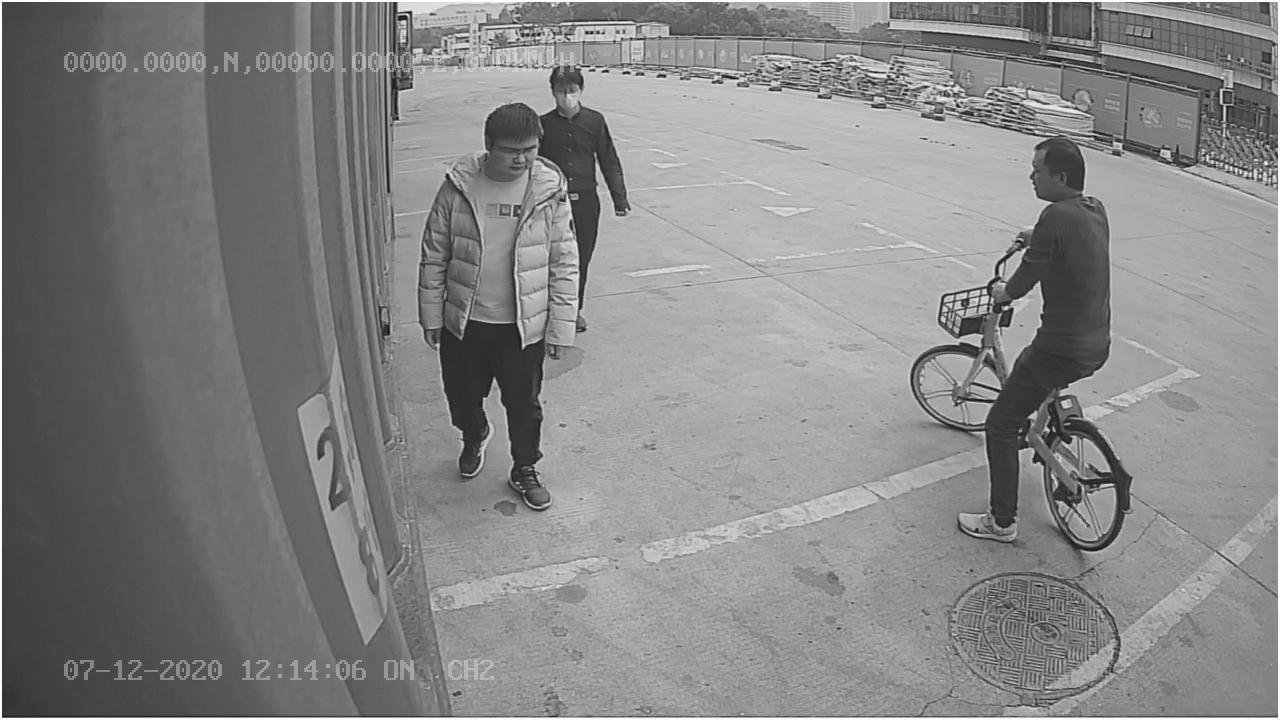person: (420, 101, 577, 513)
